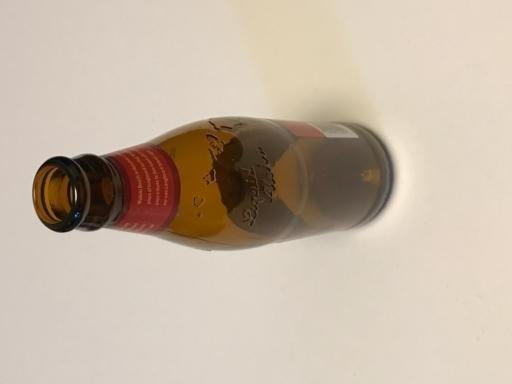botolkaca: (32, 117, 393, 251)
